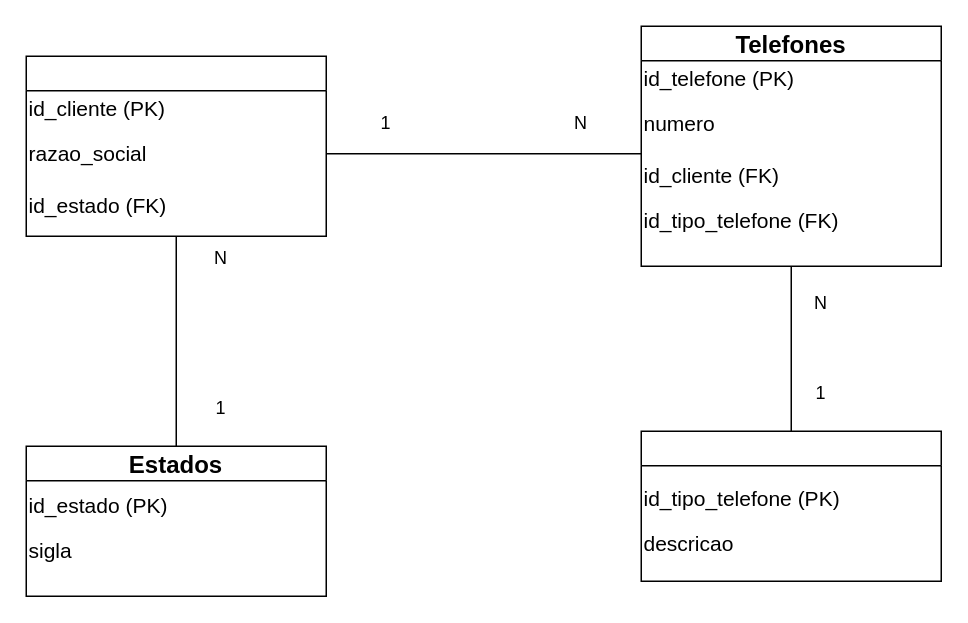
This 968x623 diagram has some shape labels left out. The box of each missing label's shape, as (x1, y1, x2, y2) in pixels:
Clientes: (25, 55, 326, 236)
Tipos_Telefone: (640, 430, 941, 581)
